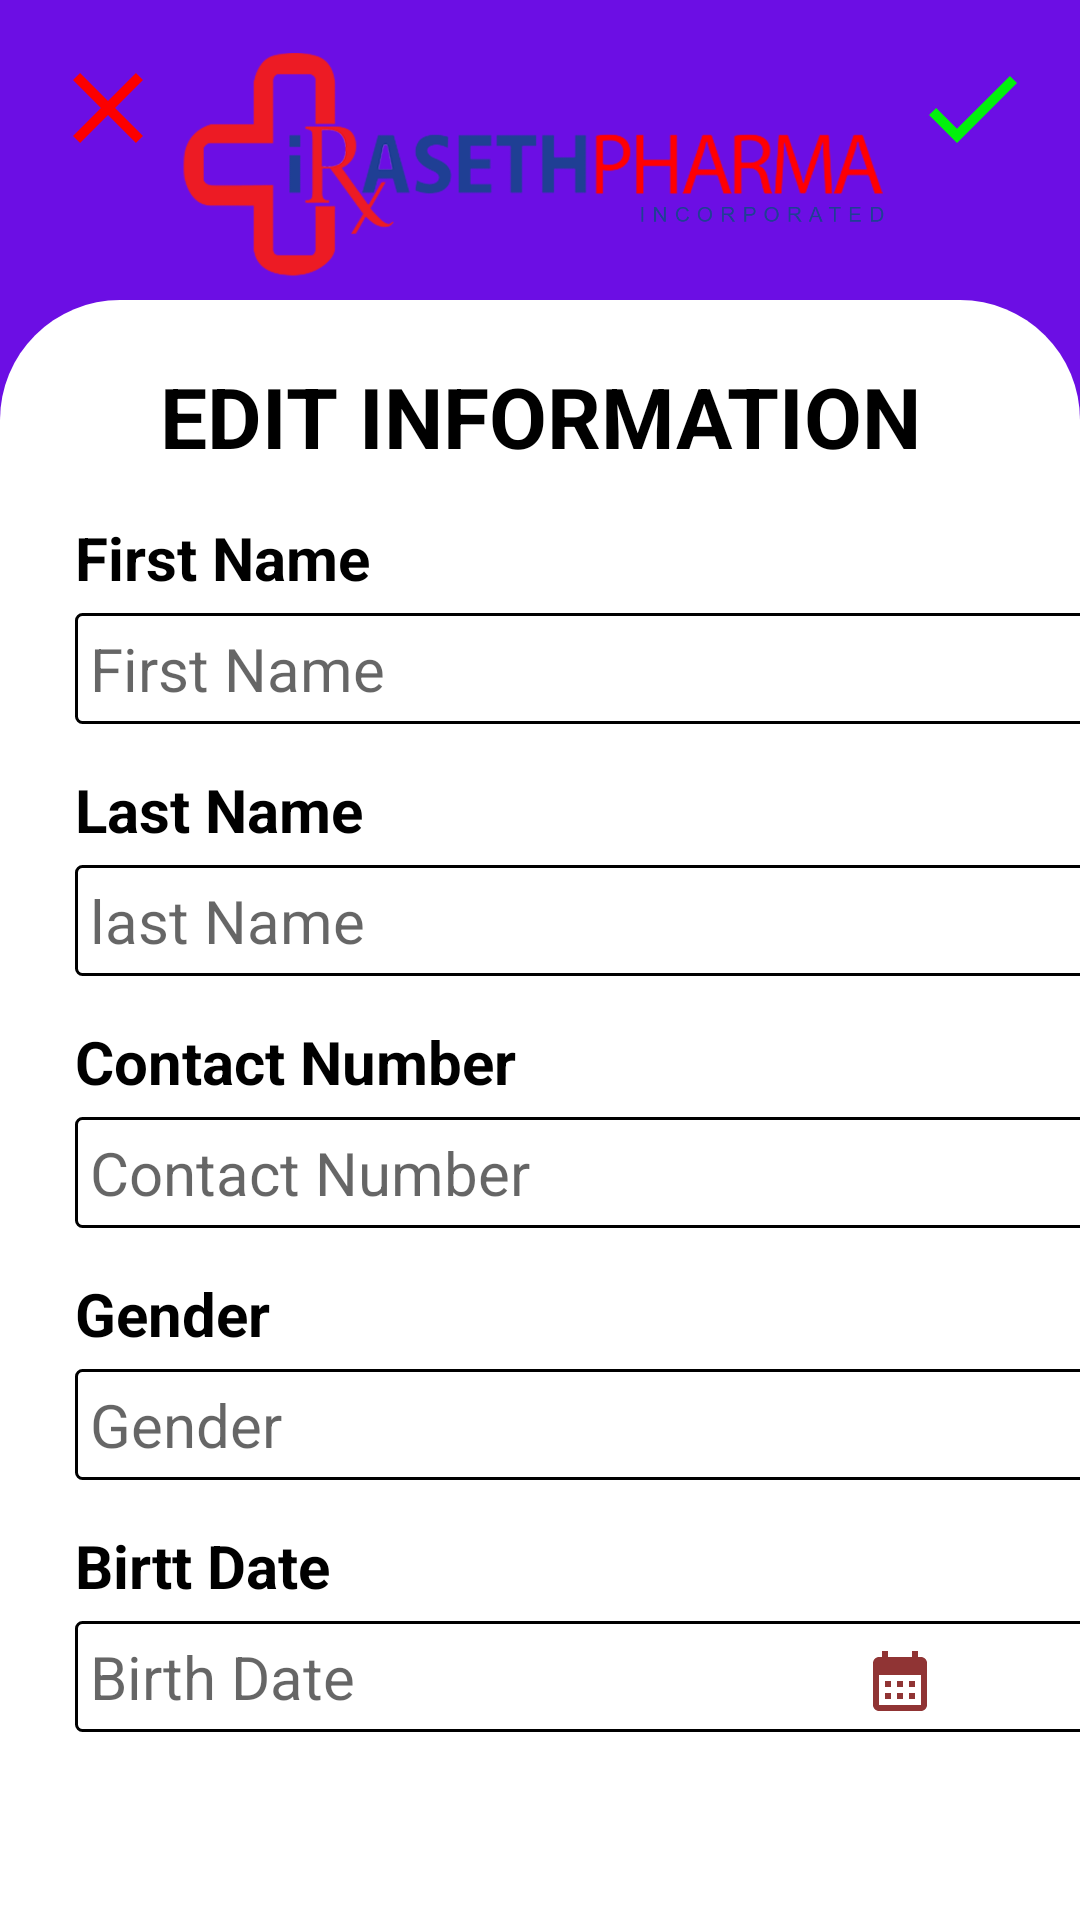

Icons on this 1080×1920 Android screen, each with its box as (x1, y1, x2, y2):
calendar month: (873, 1651, 927, 1711)
check: (929, 76, 1017, 143)
close: (73, 73, 143, 143)
